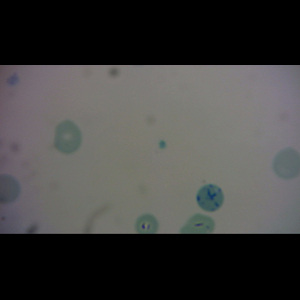aggregate reticulocyte: (196, 183, 225, 213)
erythrocyte: (53, 119, 81, 155), (272, 146, 300, 180), (134, 213, 158, 235)
